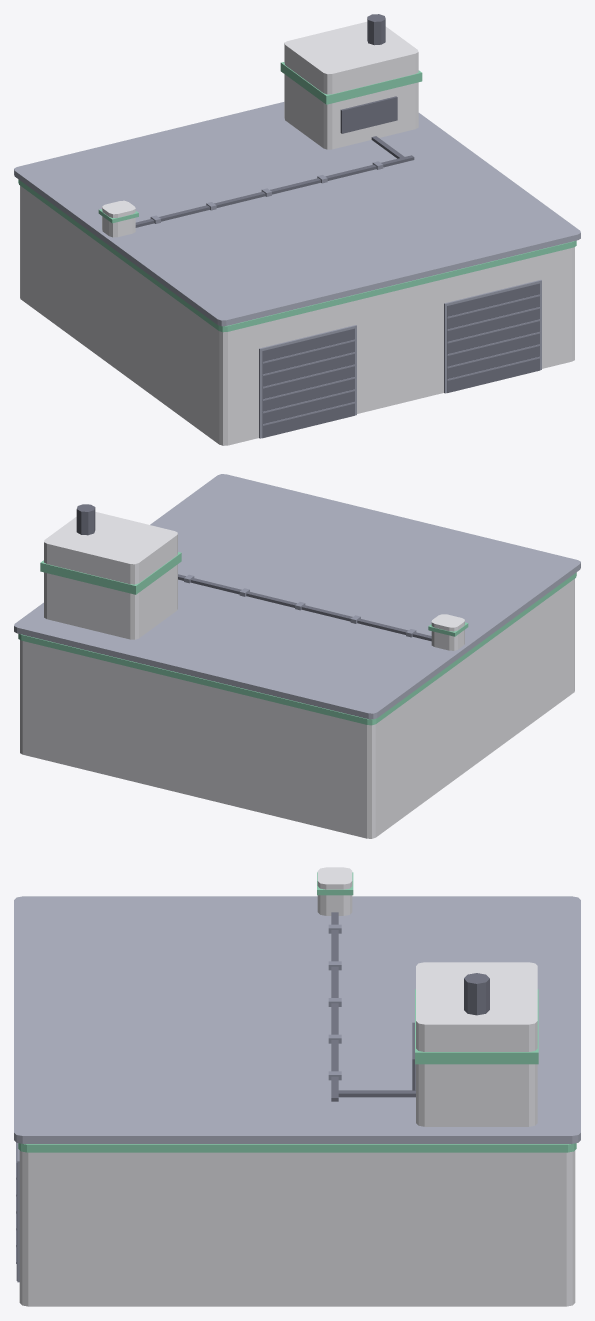
The model's file is backup-2x2-t1.glb.
3 renders of one model, top to bottom at view 1: azimuth 30°, elevation 25°; view 2: azimuth 150°, elevation 25°; view 3: azimuth 270°, elevation 25°, orthographic. The views are drawn at different scales.
Visible parts, largest first — view 1: backup-2x2-t1; view 2: backup-2x2-t1; view 3: backup-2x2-t1.
Part boxes in pixels (x1,y1,x2,y2): backup-2x2-t1: [14, 14, 580, 445]; backup-2x2-t1: [14, 474, 580, 838]; backup-2x2-t1: [14, 867, 580, 1306].
Bounding box in the file's own units: 1.96 × 1.17 × 1.96.
Materials: 1 (1 with a texture image).
